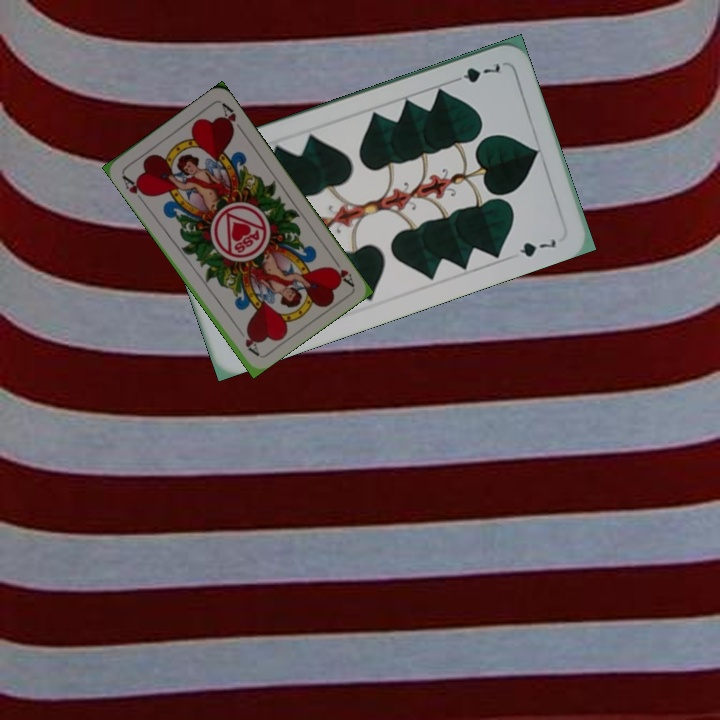G7: (447, 59, 503, 86)
HA: (118, 171, 150, 206), (326, 252, 356, 288)
